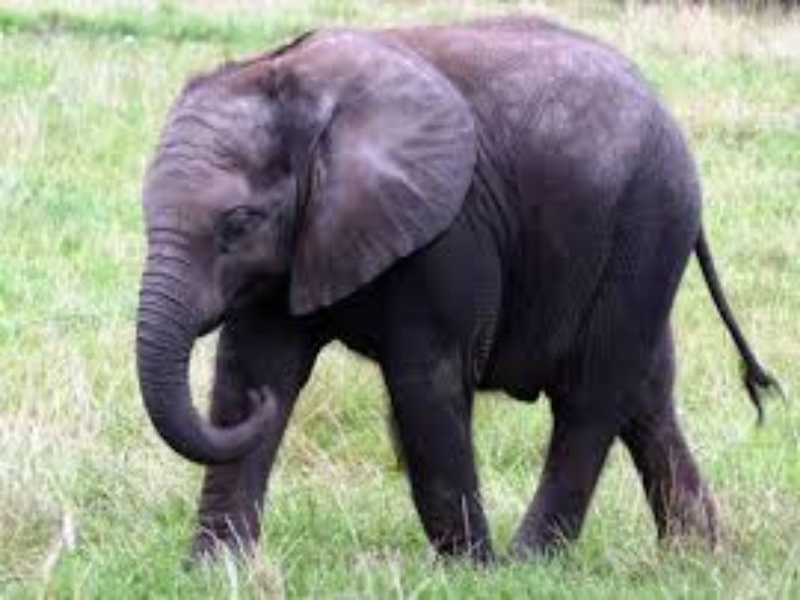elephant: (105, 12, 795, 600)
